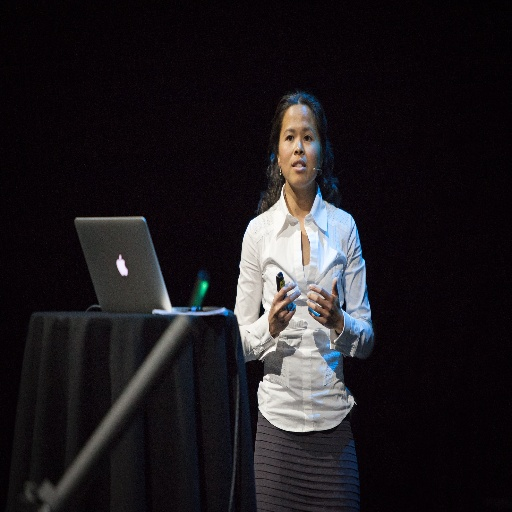hand: (311, 280, 345, 348), (268, 279, 302, 334)
